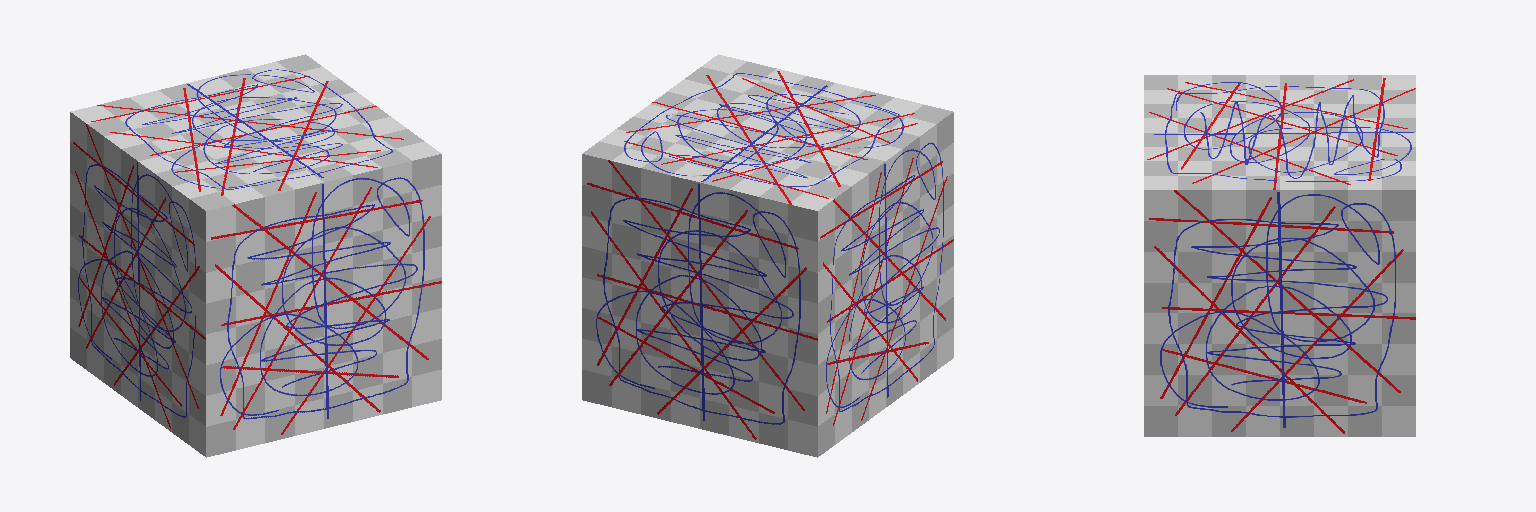
3 renders of one model, left to right at view 1: azimuth 30°, elevation 25°; view 2: azimuth 150°, elevation 25°; view 3: azimuth 270°, elevation 25°, orthographic.
Parts seen in each view (by area): view 1: cube; view 2: cube; view 3: cube.
Part boxes in pixels (x1,y1,x2,y2): cube: (70,54,441,457); cube: (582,54,953,457); cube: (1144,75,1415,436).
Size of the model in its own units: 1 by 1 by 1.
Materials: 1 (1 with a texture image).